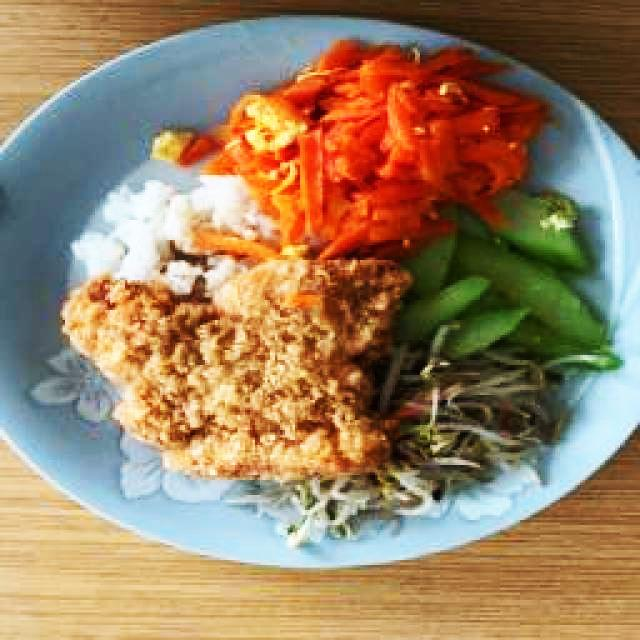carrot_eggs: (202, 38, 549, 261)
fried_chicken: (59, 253, 414, 480)
mung_bean_sprouts: (390, 362, 533, 512)
